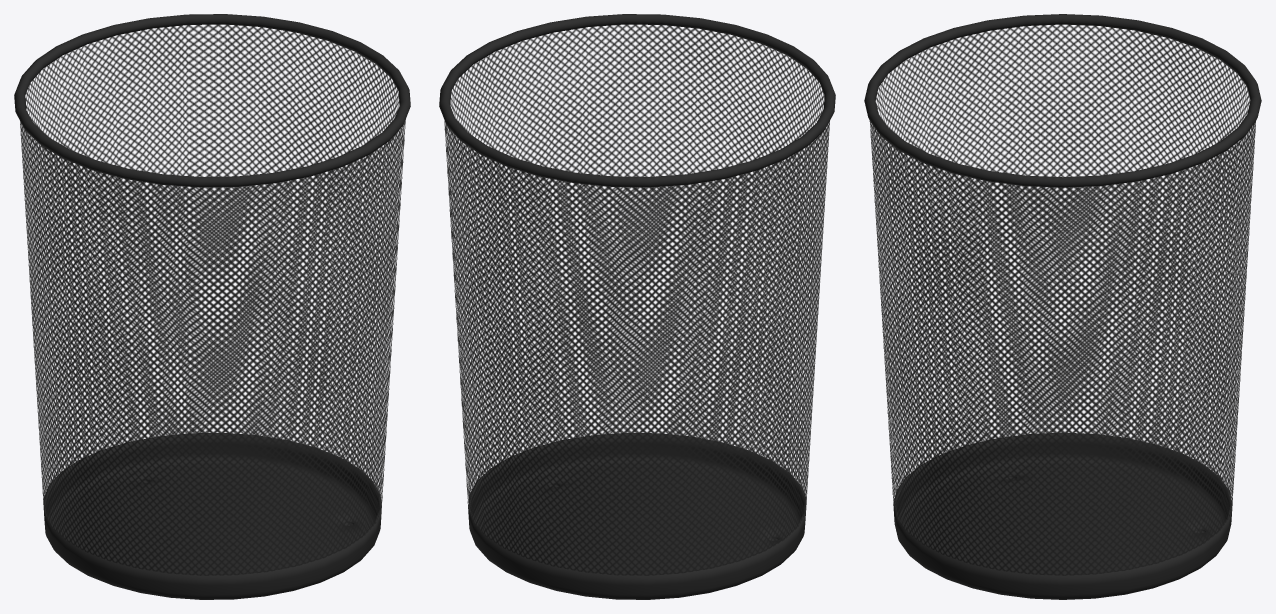
Rendered from trash can.gltf.
3 renders of one model, left to right at view 1: azimuth 30°, elevation 25°; view 2: azimuth 150°, elevation 25°; view 3: azimuth 270°, elevation 25°, orthographic.
Visible parts, largest first — view 1: base; view 2: base; view 3: base.
Part boxes in pixels (x1,y1,x2,y2): base: [14, 14, 410, 599]; base: [439, 14, 835, 599]; base: [864, 14, 1261, 599].
Size of the model in its own units: 0.284 by 0.347 by 0.284.
2 materials, 1 textured.
